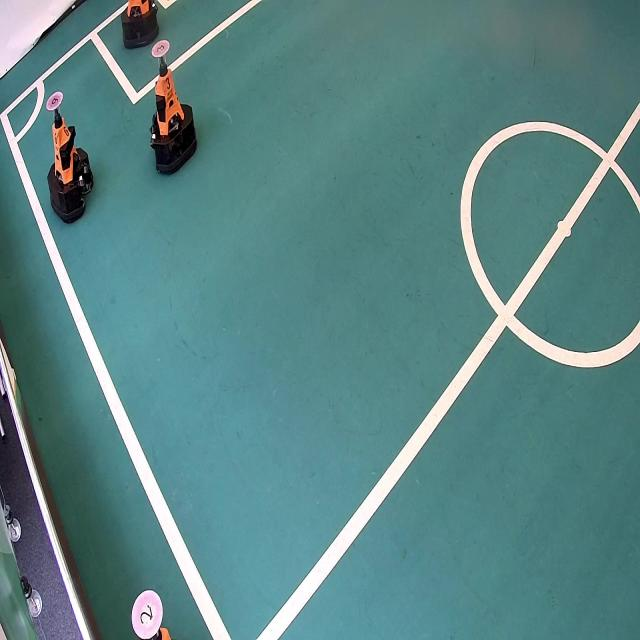Robots: (44, 89, 94, 225), (152, 42, 199, 176), (125, 2, 162, 49)
